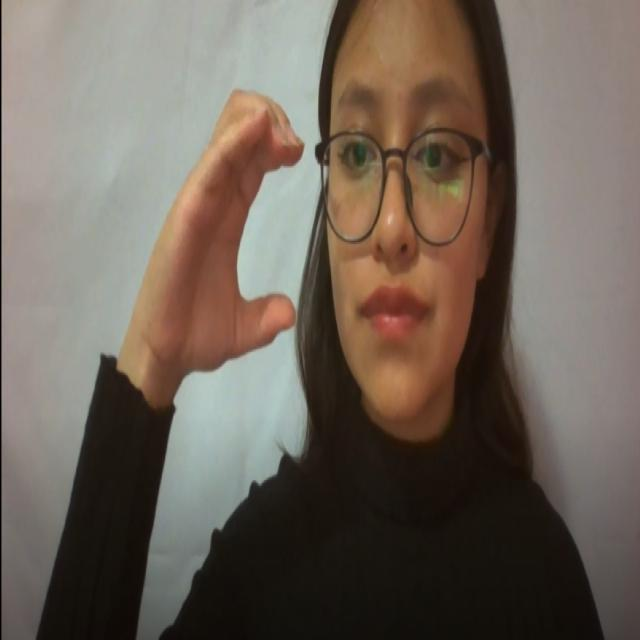C: (134, 65, 313, 385)
